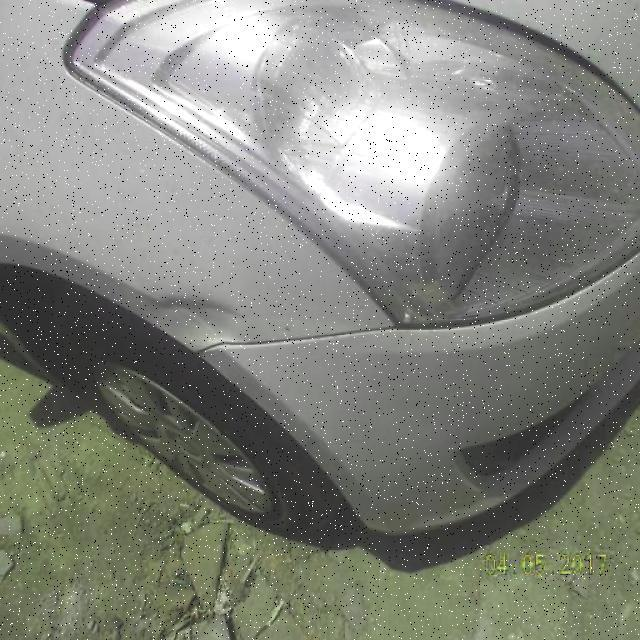car damage: (152, 291, 244, 350)
